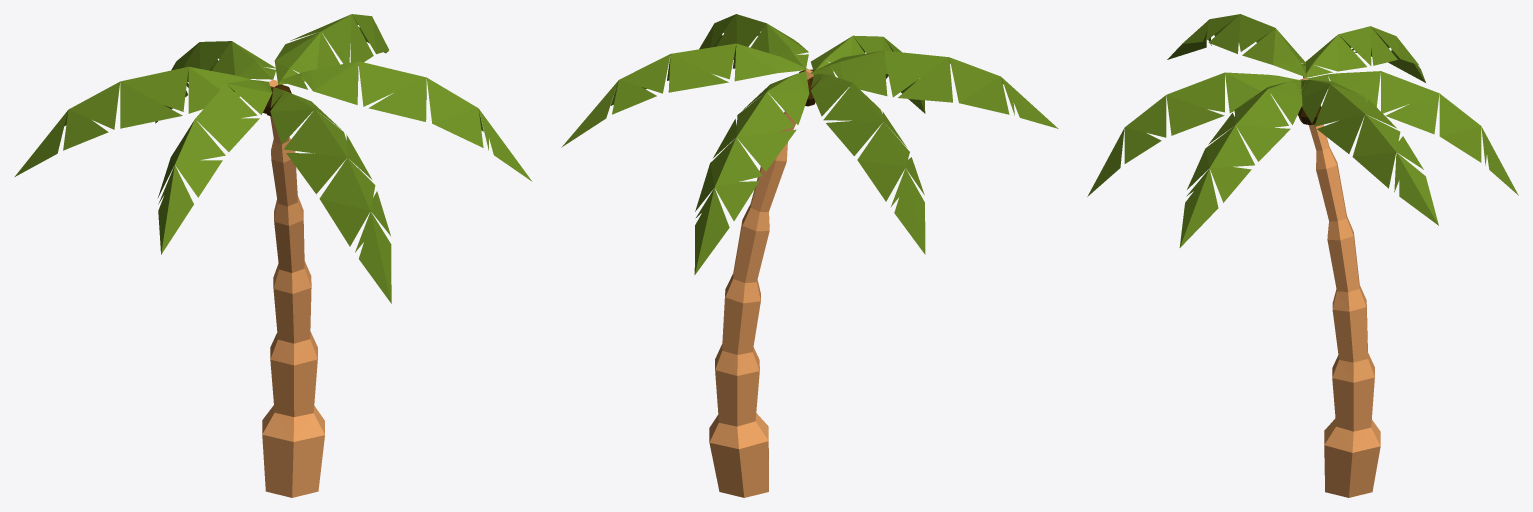
File: palm_tree_4.fbx
3 views of the same model, side by side, from view 1: azimuth 30°, elevation 25°; view 2: azimuth 150°, elevation 25°; view 3: azimuth 270°, elevation 25° (orthographic). The views are drawn at different scales.
Visible parts, largest first — view 1: G-Object.002, C-Palm Tree Leaf#8.004, C-Palm Tree Leaf#8.003, C-Palm Tree Leaf#8.001, C-Palm Tree Leaf#8.005, C-Palm Tree Leaf#8.002, C-Palm Tree Leaf#8; view 2: G-Object.002, C-Palm Tree Leaf#8, C-Palm Tree Leaf#8.005, C-Palm Tree Leaf#8.001, C-Palm Tree Leaf#8.002, C-Palm Tree Leaf#8.003, C-Palm Tree Leaf#8.004; view 3: G-Object.002, C-Palm Tree Leaf#8.003, C-Palm Tree Leaf#8.002, C-Palm Tree Leaf#8.004, C-Palm Tree Leaf#8, C-Palm Tree Leaf#8.005, C-Palm Tree Leaf#8.001.
Part boxes in pixels (x1,y1,x2,y2): G-Object.002: (262, 79, 324, 497); C-Palm Tree Leaf#8.004: (270, 87, 391, 303); C-Palm Tree Leaf#8.003: (278, 61, 532, 181); C-Palm Tree Leaf#8.001: (15, 66, 251, 176); C-Palm Tree Leaf#8.005: (157, 80, 272, 254); C-Palm Tree Leaf#8.002: (274, 14, 388, 84); C-Palm Tree Leaf#8: (155, 41, 275, 123); G-Object.002: (709, 69, 813, 497); C-Palm Tree Leaf#8: (694, 71, 809, 274); C-Palm Tree Leaf#8.005: (810, 50, 1058, 128); C-Palm Tree Leaf#8.001: (811, 74, 925, 254); C-Palm Tree Leaf#8.002: (561, 43, 808, 147); C-Palm Tree Leaf#8.003: (699, 14, 808, 68); C-Palm Tree Leaf#8.004: (811, 35, 925, 113); G-Object.002: (1299, 78, 1380, 497); C-Palm Tree Leaf#8.003: (1179, 80, 1303, 247); C-Palm Tree Leaf#8.002: (1301, 79, 1438, 225); C-Palm Tree Leaf#8.004: (1087, 72, 1298, 196); C-Palm Tree Leaf#8: (1307, 71, 1518, 195); C-Palm Tree Leaf#8.005: (1167, 14, 1306, 77); C-Palm Tree Leaf#8.001: (1303, 26, 1425, 82).
Bounding box in the file's own units: 648 × 743 × 707.
